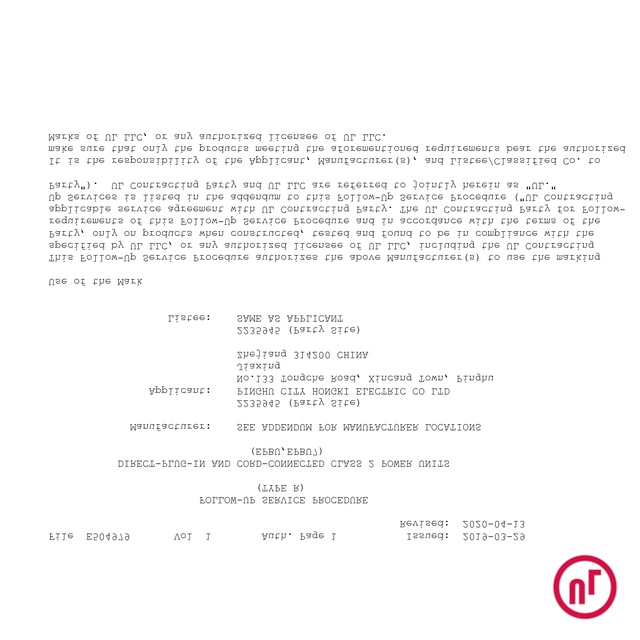ul: (552, 554, 618, 619)
